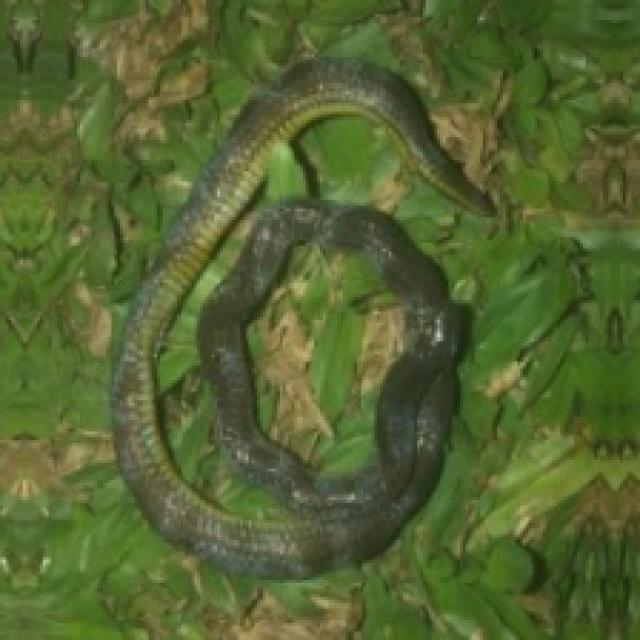gervais worm snake: (111, 60, 491, 574)
